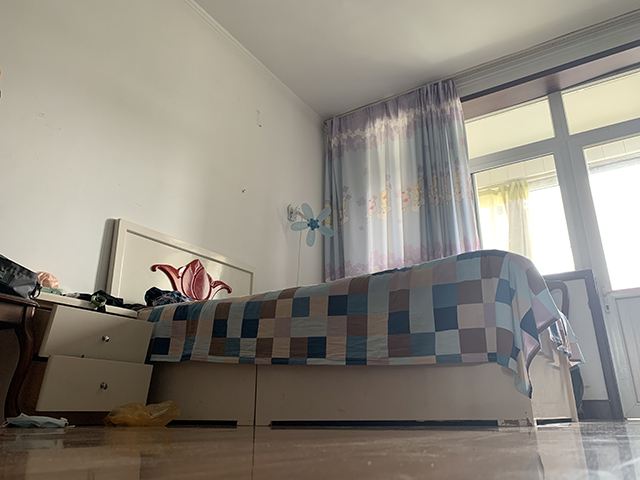bed: (103, 217, 587, 429)
cabinet: (26, 291, 155, 425)
curtain: (319, 75, 483, 273)
